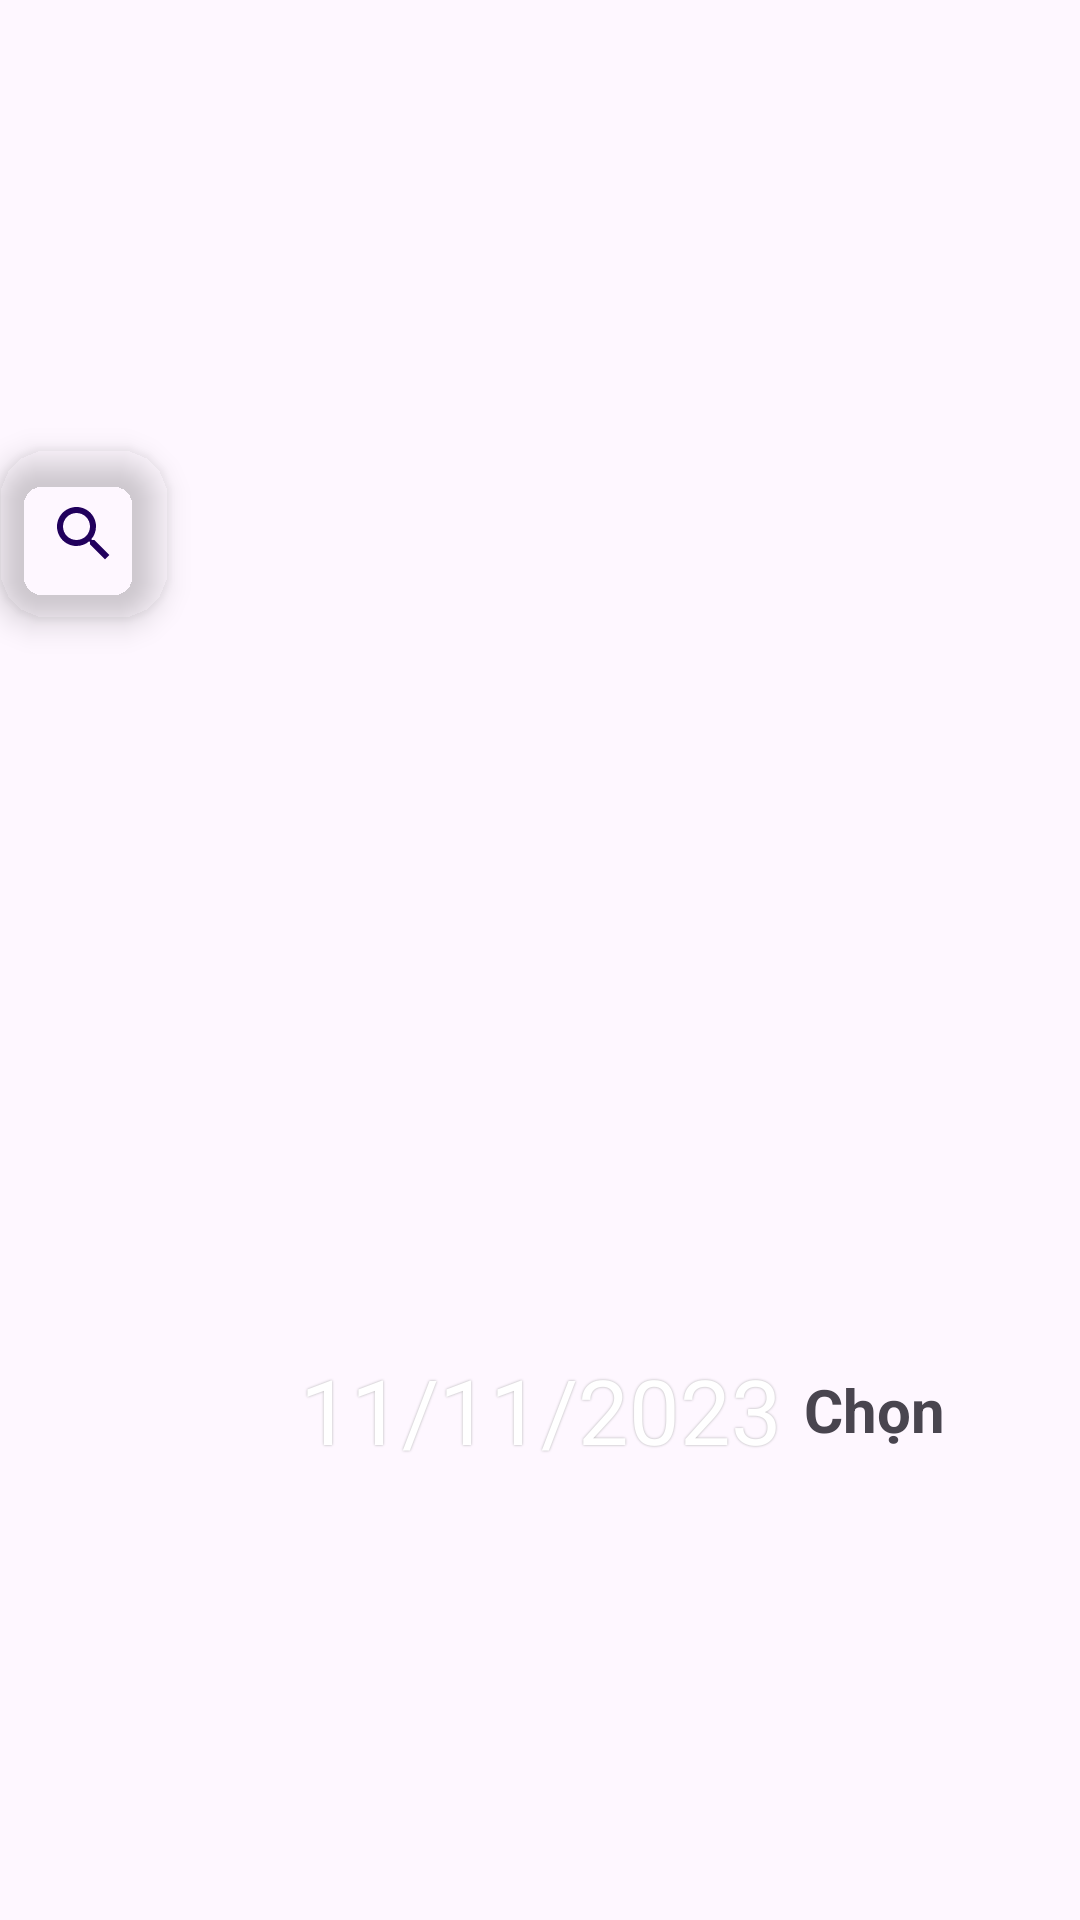

Locate icon controls on the screen. Image size 1080×1920, boxes as (left=x1, top=y1, right=x2, bottom=y2).
search: (left=0, top=450, right=168, bottom=618)
